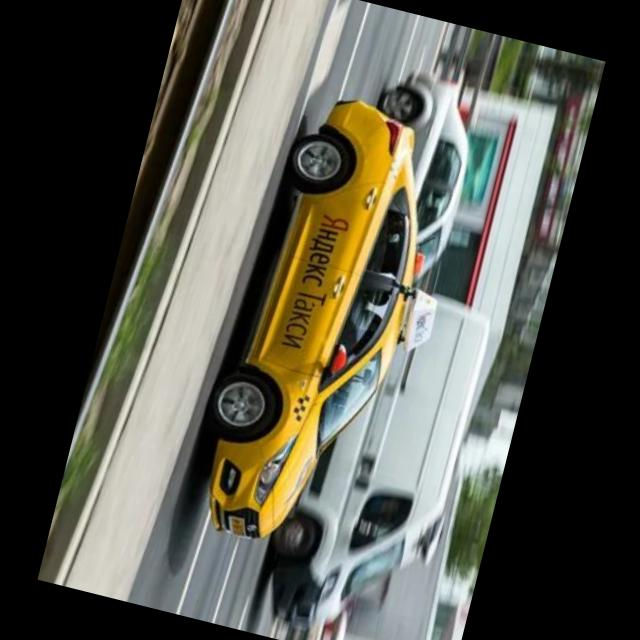taxi: (178, 82, 484, 573)
